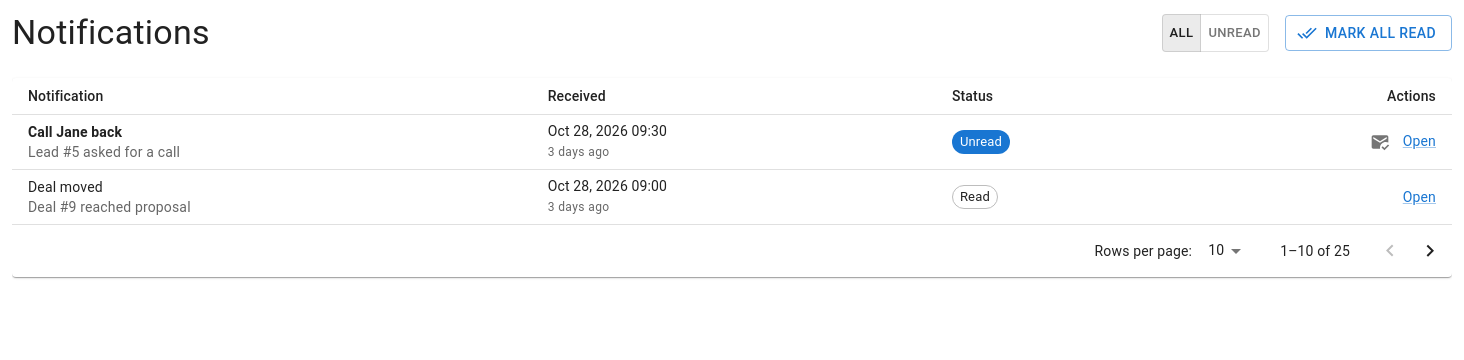
NotificationList › keeps the loaded rows visible with the error and Retry when a refetch fails
This screenshot has width=1464, height=360.
What coordinates should you click on to do the following:
click the button named "Mark read"
I would click on:
 (1380, 142)
Its box is [1365,127,1395,157].
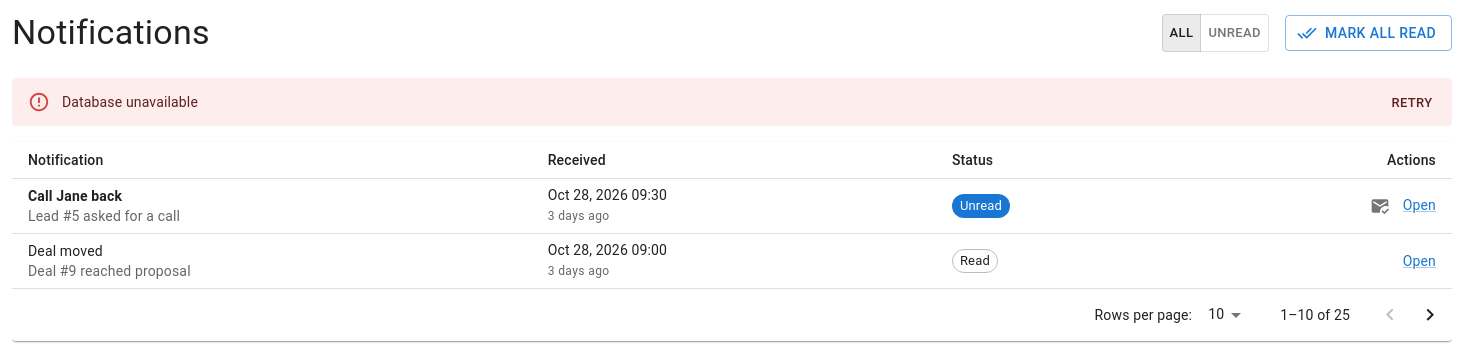
Expected: the number of rows with test id "notification-row" is 2, [12,178,1452,233]; [12,233,1452,288]
Expected: the text "Database unavailable" is shown, [62,94,198,110]
What coordinates should you click on to do the following:
click the button "Retry"
I would click on:
 (1412, 103)
Its box is [1380,88,1444,119].
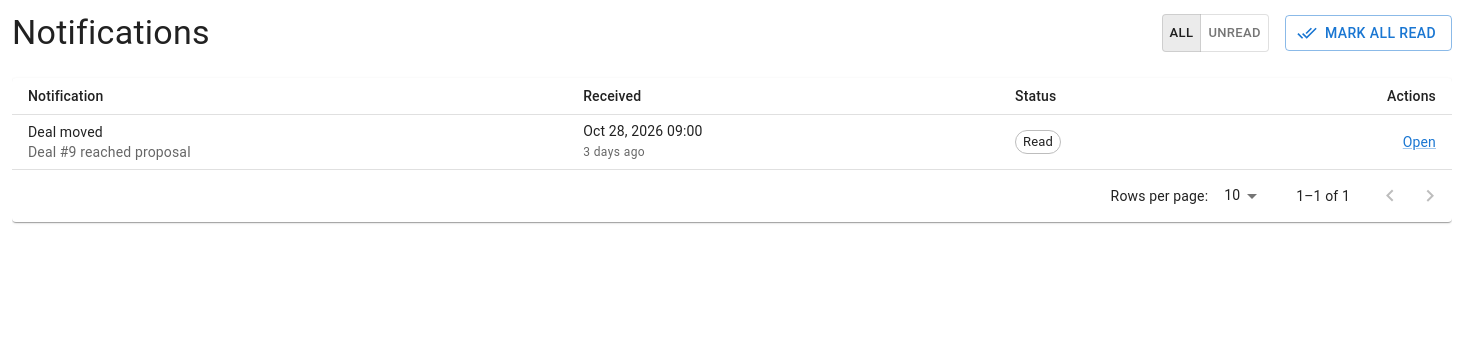
Expected: the message "Database unavailable Retry" is gone
Expected: the number of rows with test id "notification-row" is 1, [12,114,1452,169]
